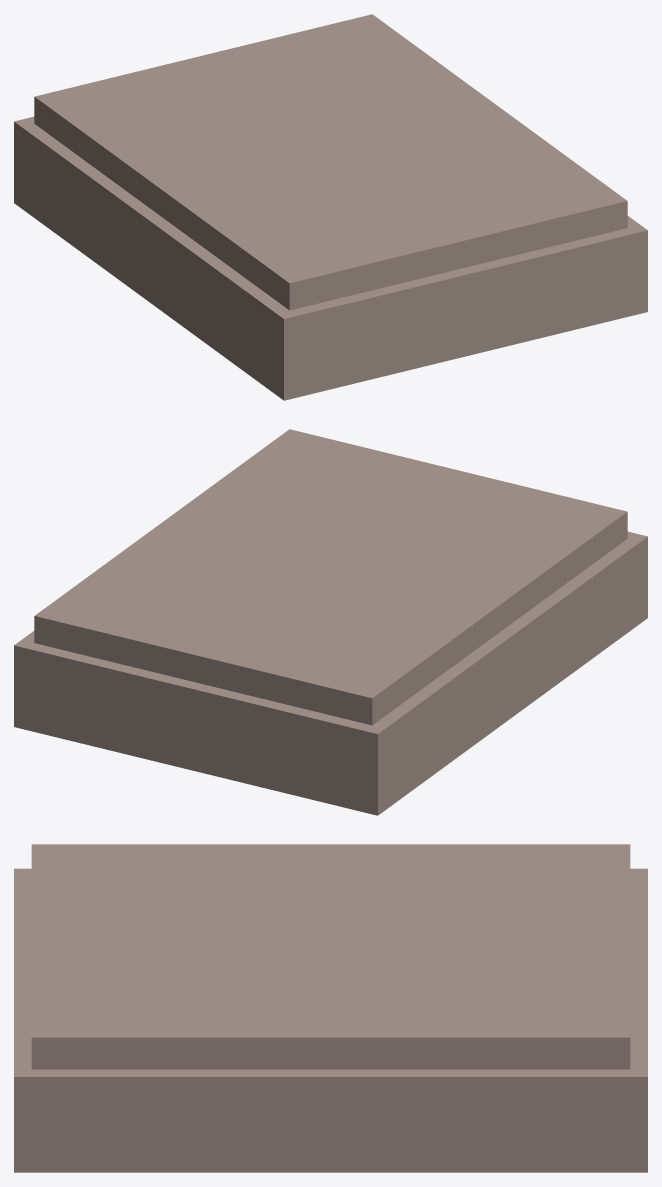
File: prop.glb
The picture shows the model from 3 angles, top to bottom: view 1: azimuth 30°, elevation 25°; view 2: azimuth 150°, elevation 25°; view 3: azimuth 270°, elevation 25°; orthographic projection. The views are drawn at different scales.
Parts seen in each view (by area): view 1: Cloth; view 2: Cloth; view 3: Cloth.
Boxes of the visible parts, box(x1,y1,x2,y2) form: Cloth: box(14, 14, 647, 400); Cloth: box(14, 429, 647, 815); Cloth: box(14, 844, 647, 1172).
Bounding box in the file's own units: 0.28 × 0.08 × 0.36.
